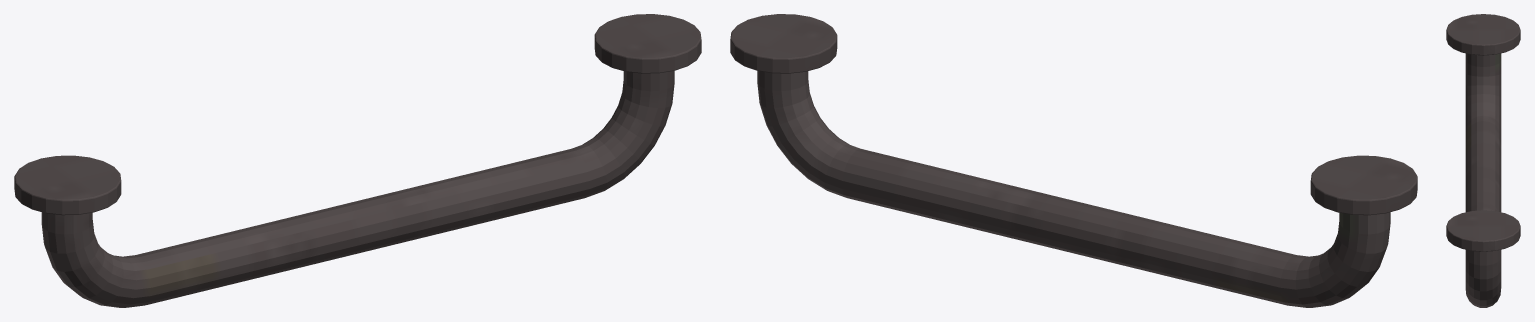
3 views of the same model, side by side, from view 1: azimuth 30°, elevation 25°; view 2: azimuth 150°, elevation 25°; view 3: azimuth 270°, elevation 25° (orthographic). The views are drawn at different scales.
Parts seen in each view (by area): view 1: unicolor_black.002; view 2: unicolor_black.002; view 3: unicolor_black.002.
Part boxes in pixels (x1,y1,x2,y2): unicolor_black.002: [14, 14, 701, 307]; unicolor_black.002: [730, 14, 1417, 307]; unicolor_black.002: [1446, 14, 1520, 307].
Size of the model in its own units: 0.2386 by 0.0485 by 0.033.
1 material, 1 textured.
